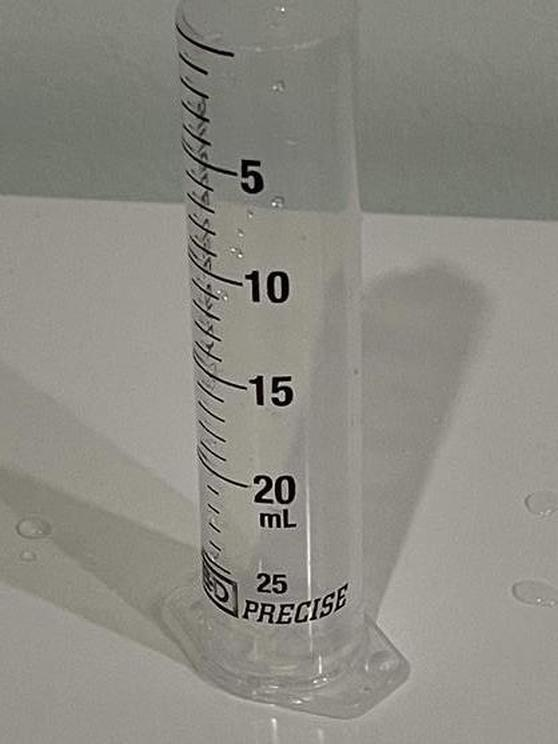wetsyringe: (158, 1, 412, 723)
